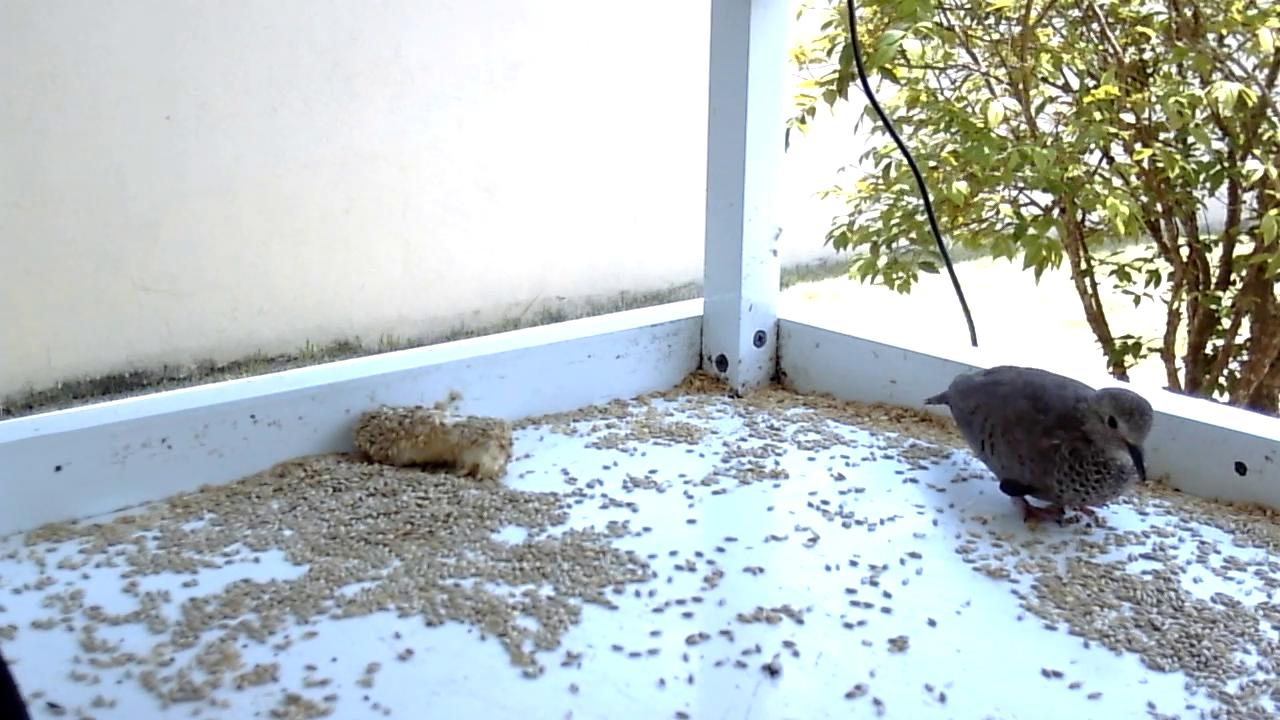rolinha: (921, 364, 1161, 529)
